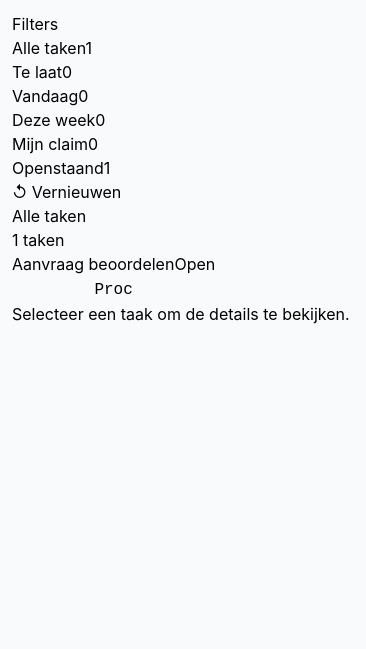
TakenInbox › claiming an unassigned task shows a success message and enables the form
The image size is (366, 649).
Click the text "Aanvraag beoordelen": {"x": 93, "y": 264} [12, 254, 174, 274]
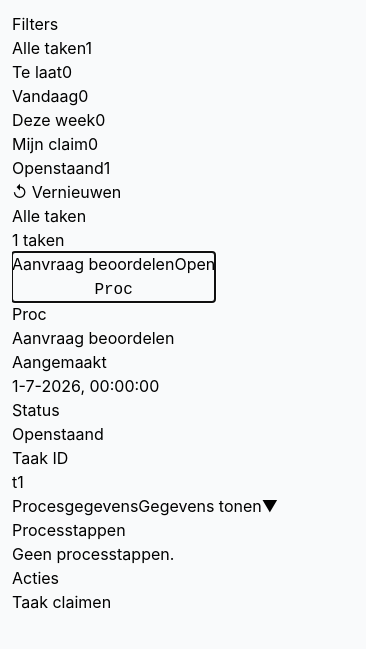
Click the button "Taak claimen": {"x": 62, "y": 602} [12, 590, 111, 614]
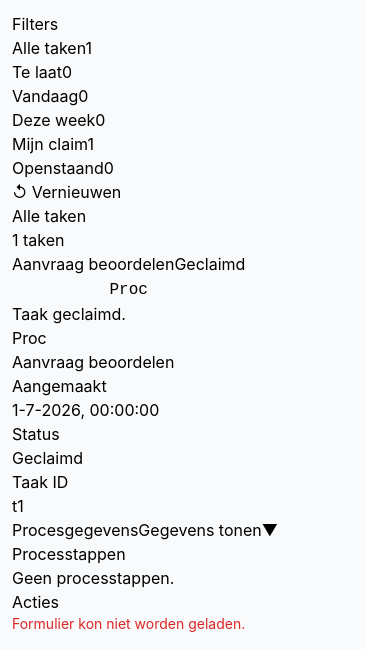
Result: the text "Taak geclaimd." is shown at [12, 304, 126, 324]
